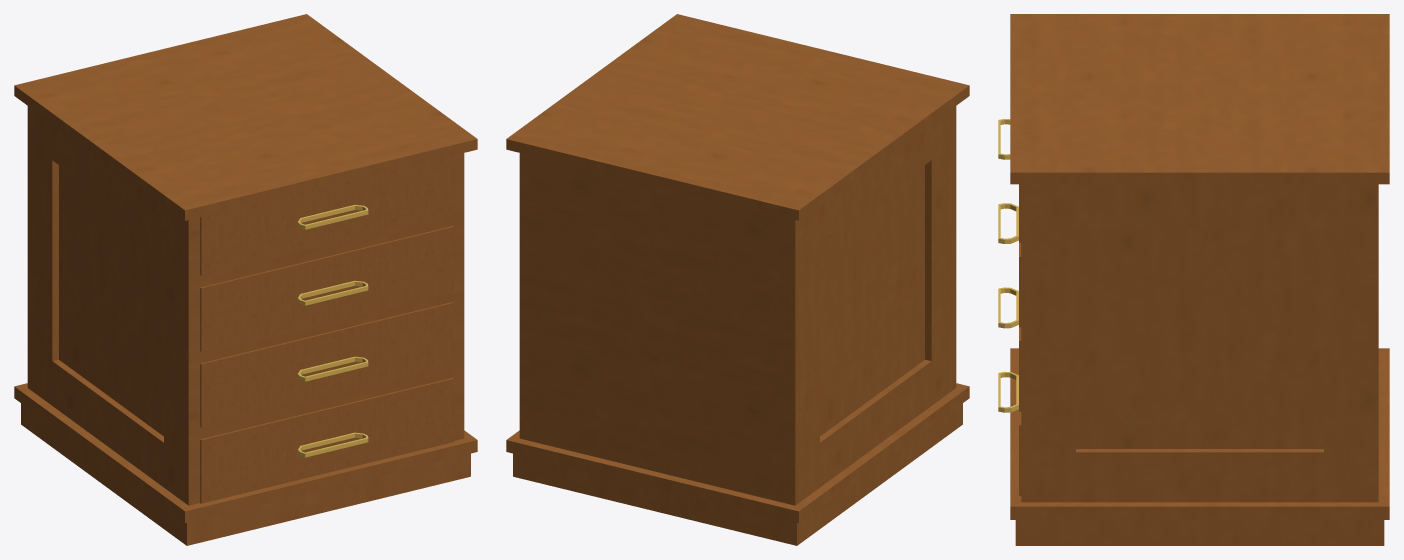
The model's file is Drawer48.fbx.
3 views of the same model, side by side, from view 1: azimuth 30°, elevation 25°; view 2: azimuth 150°, elevation 25°; view 3: azimuth 270°, elevation 25° (orthographic). The views are drawn at different scales.
Parts seen in each view (by area): view 1: Drawer48_Body, Drawer48_4, Drawer48_2, Drawer48_3, Drawer48_1; view 2: Drawer48_Body; view 3: Drawer48_Body, Drawer48_3, Drawer48_4, Drawer48_2.
Part boxes in pixels (box(x1,y1,x2,y2)): Drawer48_Body: box(14, 14, 477, 545); Drawer48_4: box(200, 378, 453, 503); Drawer48_2: box(200, 226, 453, 351); Drawer48_3: box(200, 302, 453, 427); Drawer48_1: box(200, 155, 453, 275); Drawer48_Body: box(506, 14, 969, 545); Drawer48_Body: box(1010, 14, 1389, 545); Drawer48_3: box(998, 287, 1021, 411); Drawer48_4: box(998, 371, 1021, 495); Drawer48_2: box(998, 203, 1021, 327).
Size of the model in its own units: 90.25 by 99.73 by 94.16.
